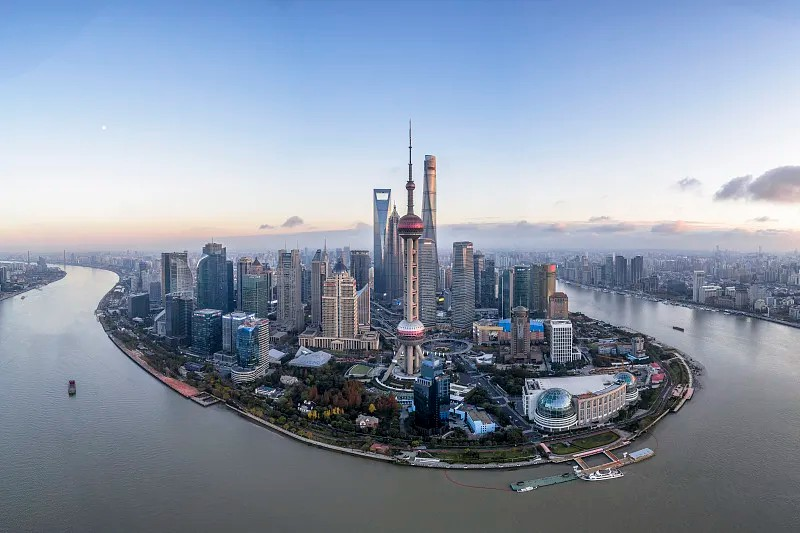Oriental: (380, 118, 425, 382)
